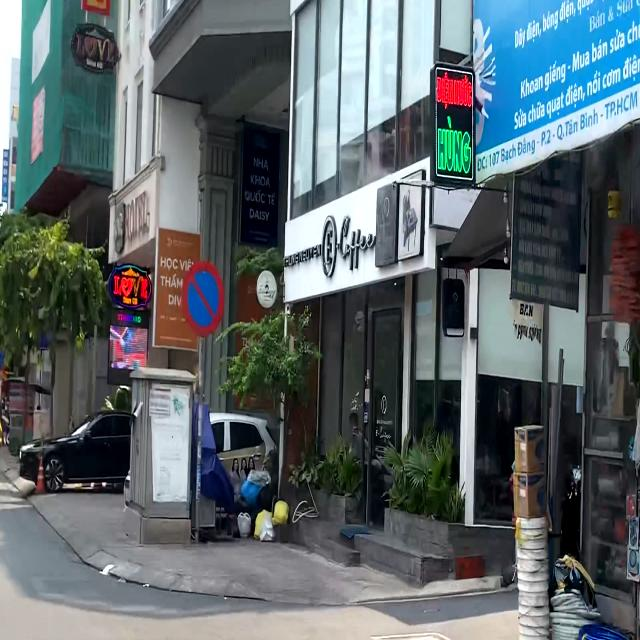P.131a: (183, 258, 226, 338)
